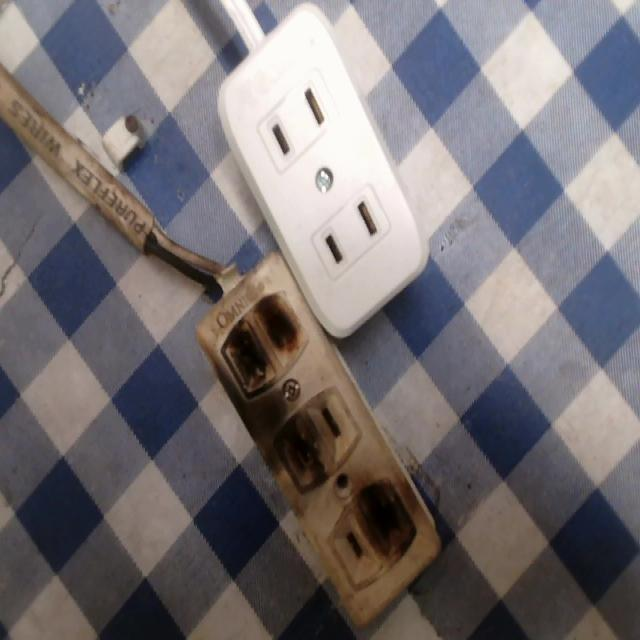-: (221, 289, 314, 388), (358, 470, 417, 558), (276, 415, 327, 500)
